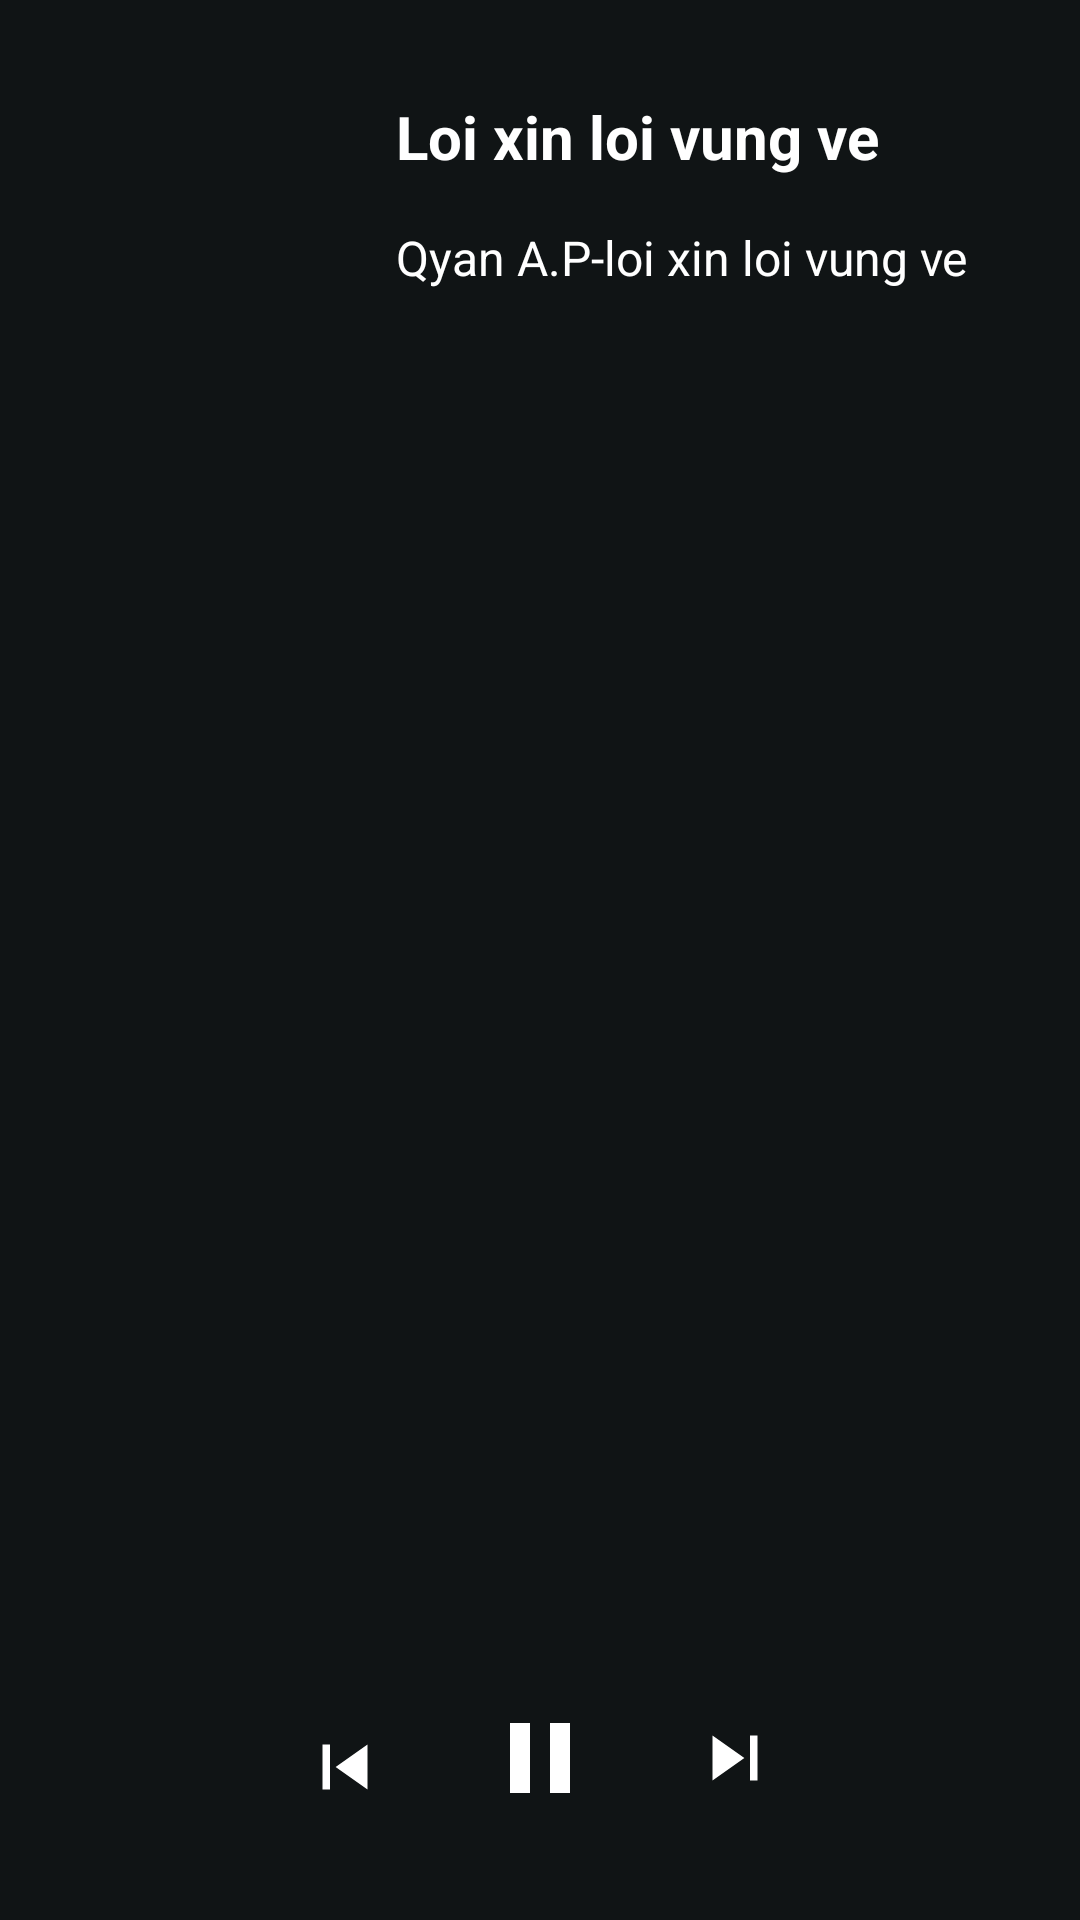

Named icons in this screenshot (1080x1920) and their centers, point (x, y):
next: point (735, 1758)
pause: point (540, 1758)
prev: point (345, 1767)
